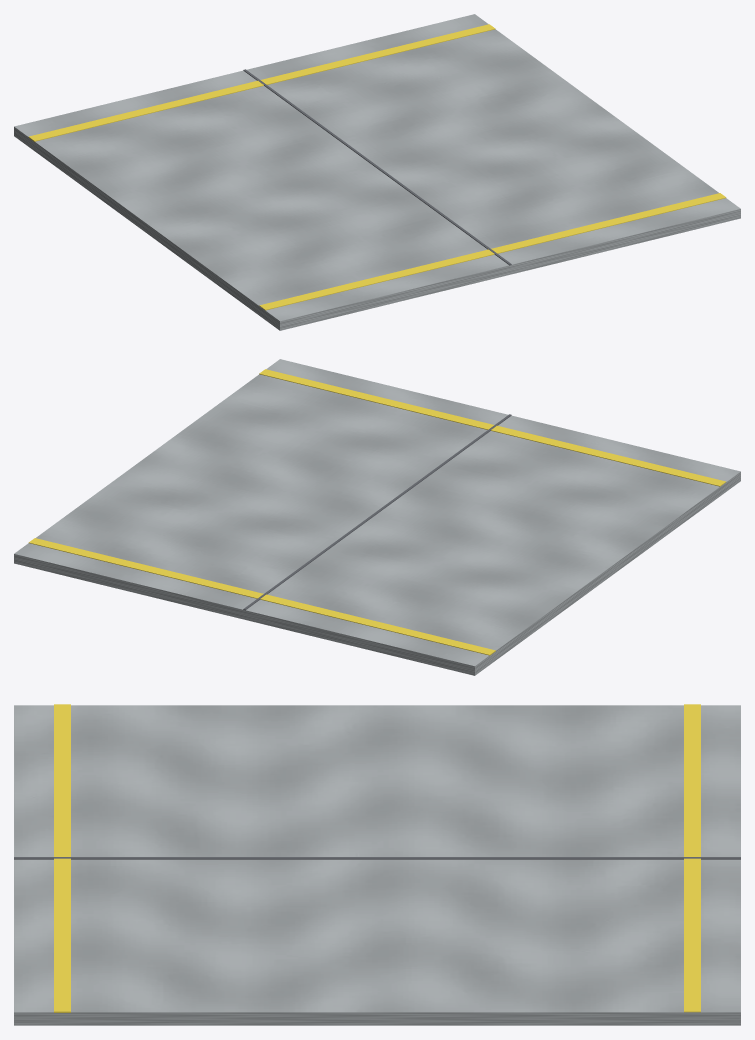
Rendered from cruise-ship-deck-and-lounge-cruise-ship-deck-and-loung-22c7f8a1__38403.glb.
The picture shows the model from 3 angles, top to bottom: view 1: azimuth 30°, elevation 25°; view 2: azimuth 150°, elevation 25°; view 3: azimuth 270°, elevation 25°; orthographic projection. The views are drawn at different scales.
Visible parts, largest first — view 1: cruise-ship-deck-and-lounge-steel-deck-plate; view 2: cruise-ship-deck-and-lounge-steel-deck-plate; view 3: cruise-ship-deck-and-lounge-steel-deck-plate.
Boxes of the visible parts, x1,y1,x2,y2 form: cruise-ship-deck-and-lounge-steel-deck-plate: (14,14,740,330); cruise-ship-deck-and-lounge-steel-deck-plate: (14,359,740,675); cruise-ship-deck-and-lounge-steel-deck-plate: (14,704,740,1025).
Size of the model in its own units: 6 by 0.1291 by 6.
3 materials, 1 textured.
